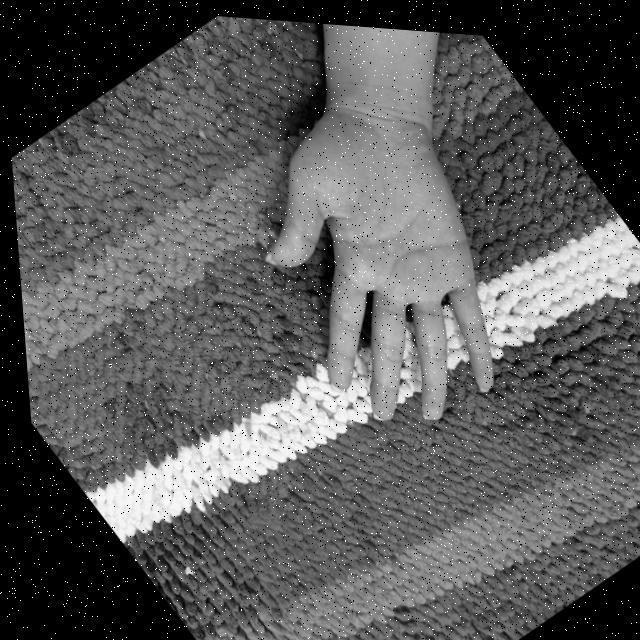no-gloves: (168, 28, 604, 480)
